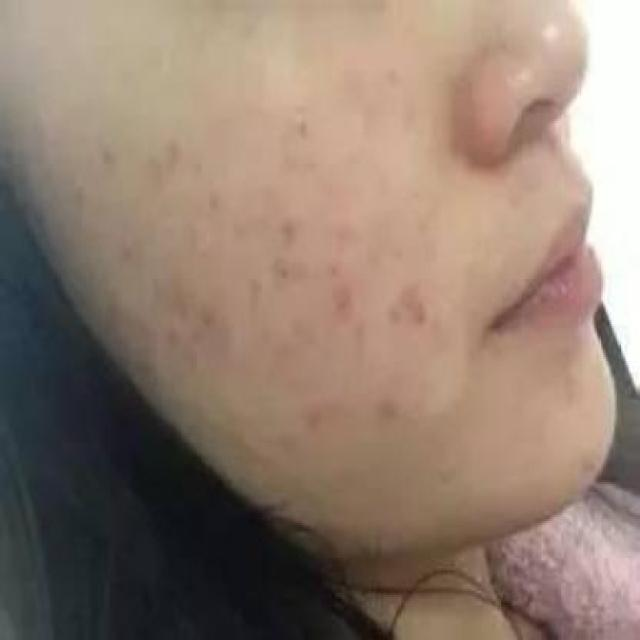acne: (394, 270, 438, 326), (370, 388, 408, 433), (274, 207, 308, 250), (157, 134, 191, 172), (330, 281, 364, 318), (290, 108, 321, 148)
